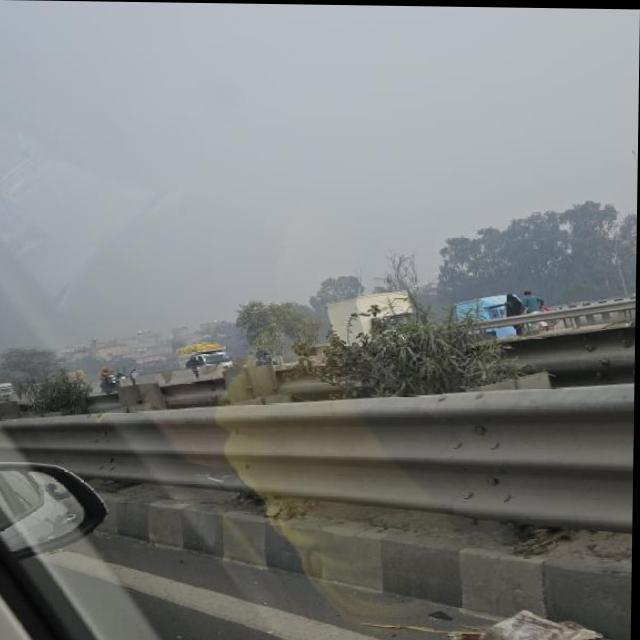covered: (172, 338, 233, 368)
uncovered: (318, 291, 416, 334)
